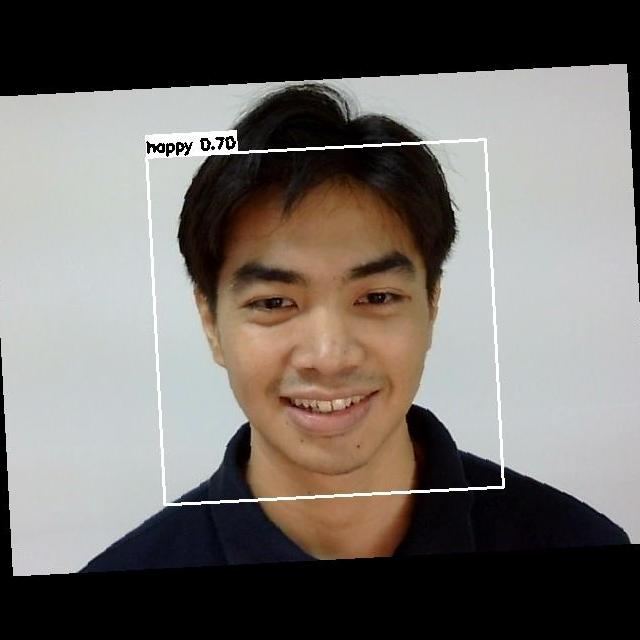Happy: (207, 227, 423, 438)
